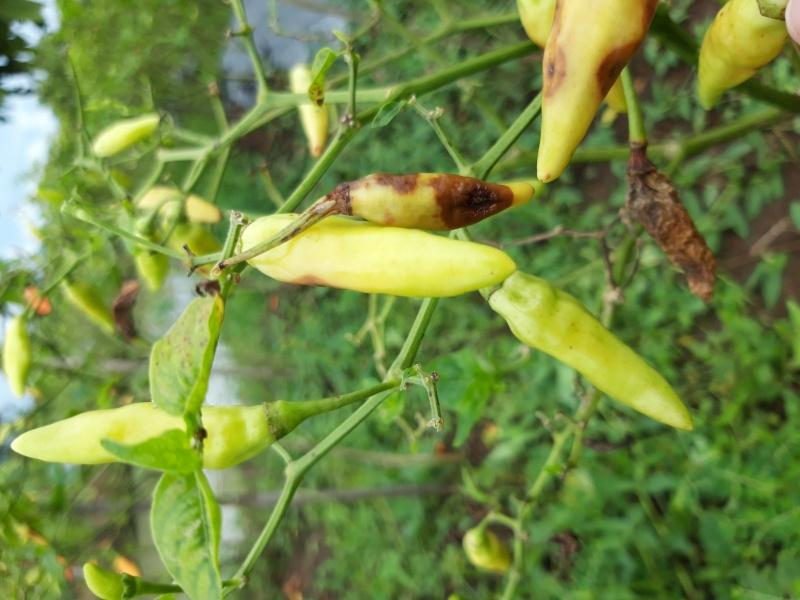antraknosa: (240, 214, 514, 297), (537, 1, 659, 180), (626, 165, 715, 306), (337, 169, 534, 230), (699, 2, 787, 109)
cabai_normal: (490, 272, 693, 428), (8, 403, 267, 473), (86, 566, 125, 597)
